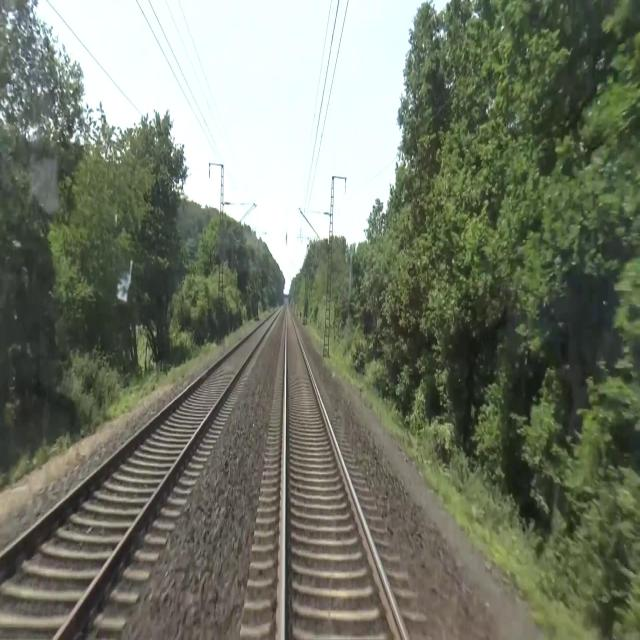rail-track: (0, 311, 278, 639), (283, 306, 403, 639)
